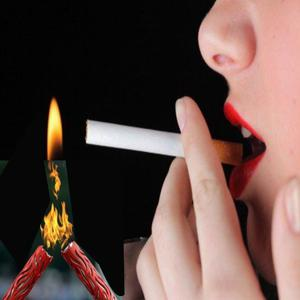cigarette: (86, 117, 248, 165)
